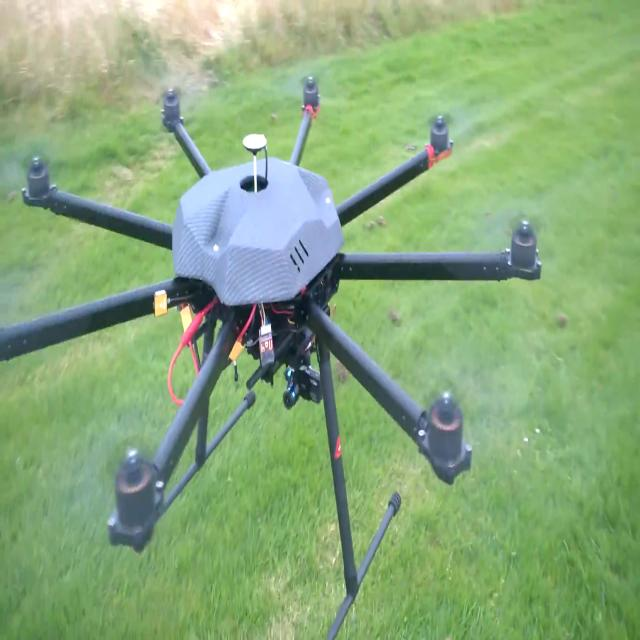drone: (2, 92, 520, 640)
